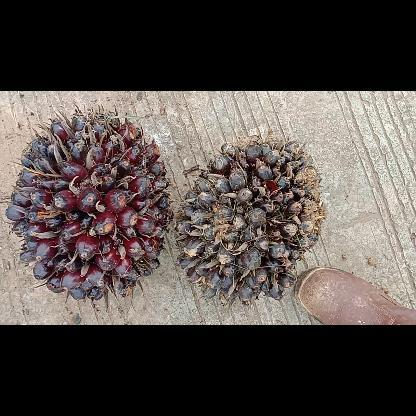TBS mentah: (3, 109, 175, 303), (172, 132, 328, 304)
